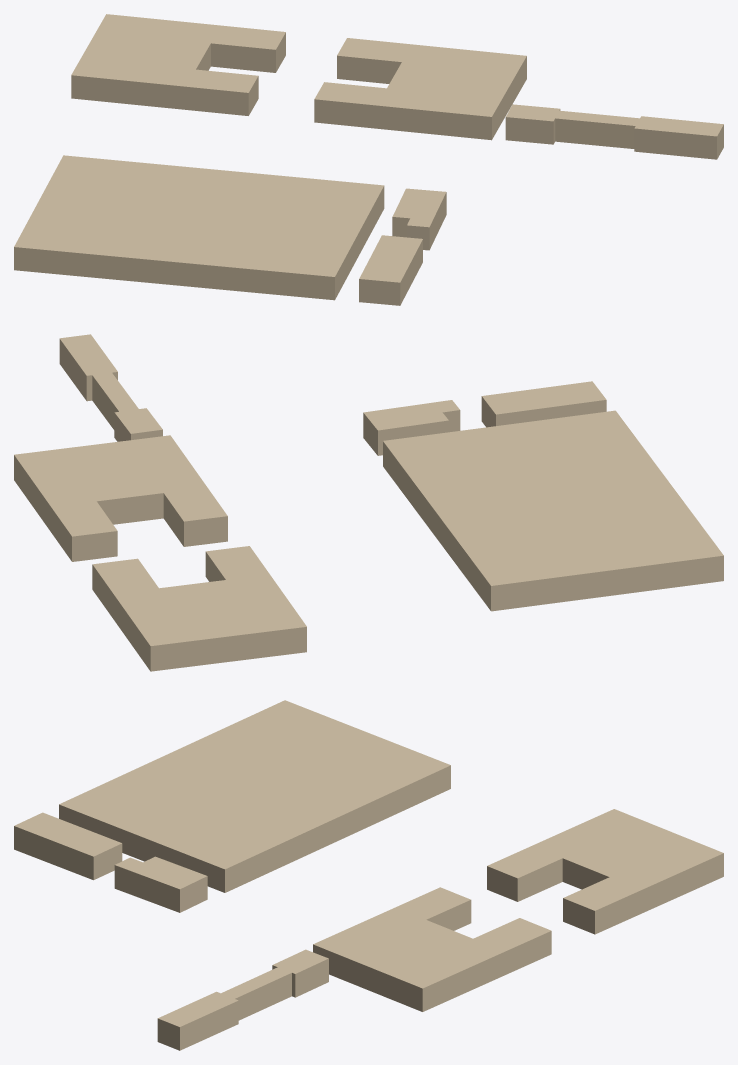
File: -19_-5-estimated-coarse.glb
The picture shows the model from 3 angles, top to bottom: view 1: azimuth 30°, elevation 25°; view 2: azimuth 150°, elevation 25°; view 3: azimuth 270°, elevation 25°; orthographic projection. The views are drawn at different scales.
Size of the model in its own units: 356 by 12 by 327.
